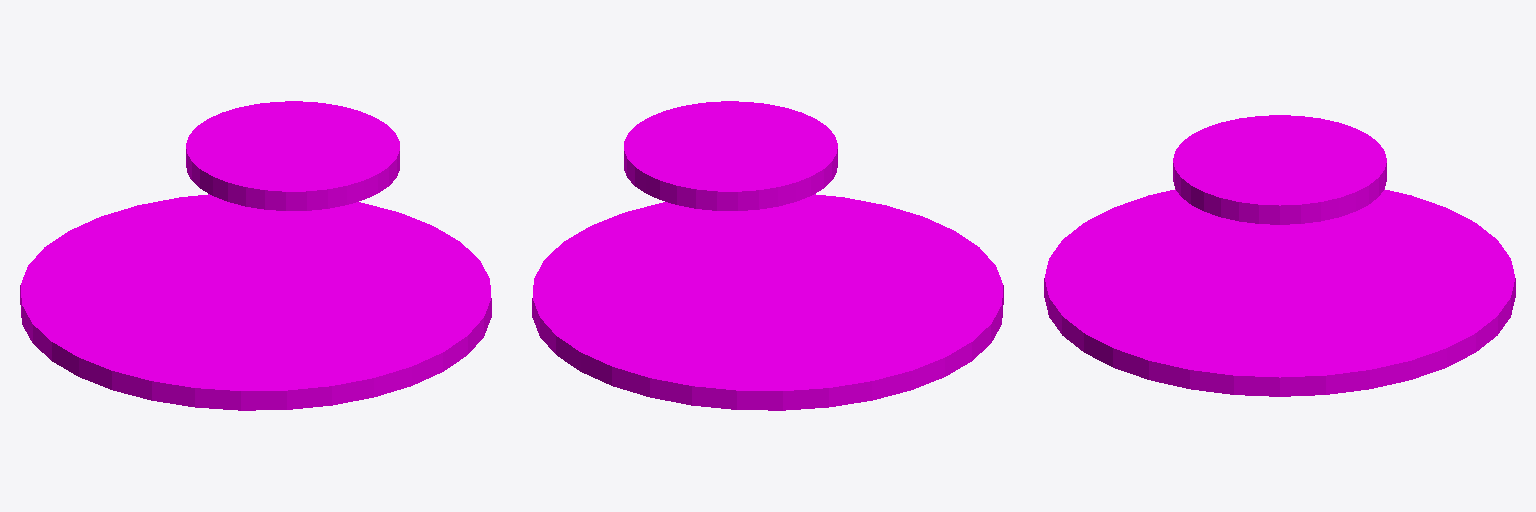
robot.urdf — automower:
<?xml version="1.0" ?>
<!-- =================================================================================== -->
<!-- |    This document was autogenerated by xacro from src/hrp-master/am_description/urdf/automower.urdf.xacro | -->
<!-- |    EDITING THIS FILE BY HAND IS NOT RECOMMENDED                                 | -->
<!-- =================================================================================== -->
<robot name="automower">
  <material name="Black">
    <color rgba="0.0 0.0 0.0 1.0"/>
  </material>
  <material name="Blue">
    <color rgba="0.0 0.0 0.8 1.0"/>
  </material>
  <material name="Green">
    <color rgba="0.0 0.1 0.0 1.0"/>
  </material>
  <material name="DarkGreen">
    <color rgba="0.2 0.6 0.0 1.0"/>
  </material>
  <material name="Gray">
    <color rgba="0.7 0.7 0.7 1.0"/>
  </material>
  <material name="DarkGray">
    <color rgba="0.3 0.3 0.3 1.0"/>
  </material>
  <material name="Red">
    <color rgba="0.8 0.0 0.0 1.0"/>
  </material>
  <material name="Purple">
    <color rgba="1.0 0.0 1.0 1.0"/>
  </material>
  <material name="White">
    <color rgba="1.0 1.0 1.0 1.0"/>
  </material>
  <material name="Yellow">
    <color rgba="0.8 0.8 0.0 1.0"/>
  </material>
  <!-- in kg-->
  <!--
  <xacro:property name="base_x_origin_to_wheel_origin" value="0.25" />
  <xacro:property name="base_y_origin_to_wheel_origin" value="0.3" />
  <xacro:property name="base_z_origin_to_wheel_origin" value="0.0" />
-->
  <!-- BASE-LINK -->
  <!--Actual body/chassis of the robot-->
  <link name="base_link">
    <inertial>
      <mass value="15"/>
      <origin xyz="0.165 0 -0.10"/>
      <!--The 3x3 rotational inertia matrix. -->
      <inertia ixx="2.2212500000000004" ixy="0" ixz="0" iyy="3.5706249999999997" iyz="0" izz="3.5706249999999997"/>
    </inertial>
    <visual>
      <origin rpy="0 0 1.5707963267948966" xyz="0 0 0"/>
      <geometry>
        <mesh filename="package://am_description/urdf/am_chassis.stl" scale="0.001 0.001 0.001"/>
      </geometry>
      <material name="DarkGreen"/>
    </visual>
    <collision>
      <origin rpy="0 0 0 " xyz="0.17 0 0.08"/>
      <geometry>
        <box size="0.65 0.50 0.20"/>
      </geometry>
    </collision>
  </link>
  <gazebo reference="base_link">
    <material>Gazebo/Green</material>
    <turnGravityOff>false</turnGravityOff>
  </gazebo>
  <!-- WHEELs -->
  <wheel fb="back" flip="1" lr="right" parent="base_link" translateX="0.0" translateY="-0.24" translateZ="0.0" wheel_height="0.032" wheel_mass="0.3" wheel_radius="0.1225"/>
  <wheel fb="back" flip="1" lr="left" parent="base_link" translateX="0.0" translateY="0.24" translateZ="0.0" wheel_height="0.032" wheel_mass="0.3" wheel_radius="0.1225"/>
  <swivel_wheel fb="front" flip="0" lr="right" parent="base_link" translateX="0.355" translateY="-0.16" translateZ="0.03" wheel_height="0.05" wheel_mass="0.5" wheel_radius="0.05"/>
  <swivel_wheel fb="front" flip="0" lr="left" parent="base_link" translateX="0.355" translateY="0.16" translateZ="0.03" wheel_height="0.05" wheel_mass="0.5" wheel_radius="0.05"/>
  <!-- LOOP SENSORs -->
  <sensorpos name="loop_front_center" parent="base_link" translateX="0.38" translateY="0.0" translateZ="-0.04"/>
  <sensorpos name="loop_front_right" parent="base_link" translateX="0.38" translateY="-0.07" translateZ="-0.04"/>
  <sensorpos name="loop_rear_left" parent="base_link" translateX="-0.07" translateY="0.14" translateZ="-0.04"/>
  <sensorpos name="loop_rear_right" parent="base_link" translateX="-0.07" translateY="-0.14" translateZ="-0.04"/>
  <!-- CONFINEMENT SENSORs -->
  <sensorpos name="col_front_chassis" parent="base_link" translateX="0.55" translateY="0.0" translateZ="0.00"/>
  <sensorpos name="col_front_left" parent="base_link" translateX="0.43" translateY="0.24" translateZ="0.00"/>
  <sensorpos name="col_front_right" parent="base_link" translateX="0.43" translateY="-0.24" translateZ="0.00"/>
  <sensorpos name="col_rear_left" parent="base_link" translateX="-0.10" translateY="0.24" translateZ="0.0"/>
  <sensorpos name="col_rear_right" parent="base_link" translateX="-0.10" translateY="-0.24" translateZ="0.0"/>
  <!-- CUTTING DISC -->
  <link name="cutting_disc_center">
    <visual>
      <origin rpy="0 0 0" xyz="0 0 0"/>
      <geometry>
        <cylinder length="0.01" radius="0.11"/>
      </geometry>
      <material name="Purple"/>
    </visual>
  </link>
  <gazebo reference="cutting_disc_center">
    <turnGravityOff>false</turnGravityOff>
  </gazebo>
  <joint name="cutting_disc_center_joint" type="fixed">
    <parent link="base_link"/>
    <child link="cutting_disc_center"/>
    <origin rpy="0 0 0" xyz="0.25 0.0 -0.07"/>
  </joint>
  <!-- Antenna -->
  <link name="antenna_center">
    <visual>
      <origin rpy="0 0 0" xyz="0 0 0"/>
      <geometry>
        <cylinder length="0.01" radius="0.05"/>
      </geometry>
      <material name="Purple"/>
    </visual>
  </link>
  <gazebo reference="antenna_center">
    <turnGravityOff>false</turnGravityOff>
  </gazebo>
  <joint name="antenna_center_joint" type="fixed">
    <parent link="base_link"/>
    <child link="antenna_center"/>
    <origin rpy="0 0 0" xyz="0.27 0.0 0.0"/>
  </joint>
  <!-- GAZEBO STUFF -->
  <gazebo>
    <plugin filename="libam_gazebo_controller_2wd.so" name="automower_gazebo_controller">
      <alwaysOn>true</alwaysOn>
      <updateRate>100.0</updateRate>
      <leftJoint>back_right_wheel_joint</leftJoint>
      <rightJoint>back_left_wheel_joint</rightJoint>
      <wheelSeparation>0.4645</wheelSeparation>
      <wheelDiameter>0.245</wheelDiameter>
      <wheelTorque>100</wheelTorque>
      <commandTopic>cmd_vel</commandTopic>
      <odometryTopic>odom</odometryTopic>
      <odometryFrame>odom_gazebo</odometryFrame>
      <robotBaseFrame>base_link_gazebo</robotBaseFrame>
      <publishWheelTF>false</publishWheelTF>
      <publishWheelJointState>false</publishWheelJointState>
    </plugin>
    <plugin filename="libgazebo_ros_control.so" name="gazebo_ros_control"/>
    <plugin filename="libhector_gazebo_ros_imu.so" name="imu_plugin">
      <alwaysOn>true</alwaysOn>
      <bodyName>base_link</bodyName>
      <topicName>imu</topicName>
      <serviceName>imu_service</serviceName>
      <updateRate>100.0</updateRate>
      <rpyOffsets>0 0 0</rpyOffsets>
      <!-- deprecated -->
      <!--
      <gaussianNoise>0.0</gaussianNoise>
      <accelDrift>0.5 0.5 0.5</accelDrift>
      <accelGaussianNoise>0.35 0.35 0.3</accelGaussianNoise>
      <rateDrift>0.1 0.1 0.1</rateDrift>
      <rateGaussianNoise>0.05 0.05 0.015</rateGaussianNoise>
      <headingDrift>0.1</headingDrift>
      <headingGaussianNoise>1.00</headingGaussianNoise>
-->
      <gaussianNoise>0.0</gaussianNoise>
      <!-- deprecated -->
      <accelDrift>0.0 0.0 0.0</accelDrift>
      <accelGaussianNoise>0.0 0.0 0.0</accelGaussianNoise>
      <rateDrift>0.0 0.0 0.0</rateDrift>
      <rateGaussianNoise>0.0 0.0 0.0</rateGaussianNoise>
      <headingDrift>0.0</headingDrift>
      <headingGaussianNoise>0.00</headingGaussianNoise>
    </plugin>
    <plugin filename="libam_gazebo_wheelencoder.so" name="am_gazebo_wheelencoder">
    </plugin>
    <plugin filename="libhector_gazebo_ros_gps.so" name="automower_gps_sim">
      <alwaysOn>true</alwaysOn>
      <updateRate>4.0</updateRate>
      <bodyName>base_link</bodyName>
      <topicName>fix</topicName>
      <velocityTopicName>fix_vel</velocityTopicName>
      <drift>5.0 5.0 5.0</drift>
      <gaussianNoise>0.1 0.1 0.1</gaussianNoise>
      <velocityDrift>0 0 0</velocityDrift>
      <velocityGaussianNoise>0.1 0.1 0.1</velocityGaussianNoise>
    </plugin>
  </gazebo>
  <gazebo reference="base_link">
    <sensor name="automower_sensor" type="contact">
      <always_on>true</always_on>
      <update_rate>50</update_rate>
      <contact>
        <collision>base_link_collision</collision>
      </contact>
      <plugin filename="libam_gazebo_sensors.so" name="automower_sensors_plugin">
        <always_on>true</always_on>
        <update_rate>20</update_rate>
        <bumperTopicName>sensor_status</bumperTopicName>
        <loopTopicName>loop</loopTopicName>
        <!-- 0x01 = FC, 0x02 = FR, 0x04 = RL, 0x08 = RR -->
        <loopOutsideSensors>15</loopOutsideSensors>
      </plugin>
    </sensor>
  </gazebo>
</robot>

--- Render facts (derived) ---
3 views of the same robot in one strip: view 1: azimuth 30°, elevation 25°; view 2: azimuth 150°, elevation 25°; view 3: azimuth 270°, elevation 25° (orthographic).
Model automower with 3 links and 2 joints (2 fixed), rooted at base_link, posed all joints at 0.
Visible links, largest first — view 1: cutting_disc_center, antenna_center; view 2: cutting_disc_center, antenna_center; view 3: cutting_disc_center, antenna_center.
Link boxes in pixels (<box>): cutting_disc_center: <box>20,194,491,410</box>; antenna_center: <box>186,101,399,210</box>; cutting_disc_center: <box>532,194,1003,410</box>; antenna_center: <box>624,101,837,210</box>; cutting_disc_center: <box>1044,189,1515,396</box>; antenna_center: <box>1173,115,1386,224</box>.
Size in the robot's own frame: 0.22 by 0.22 by 0.08 metres.
0 mesh visuals loaded from 1 distinct referenced files (none loaded); not drawn: 1 (reference not matched to a file when rendering).
